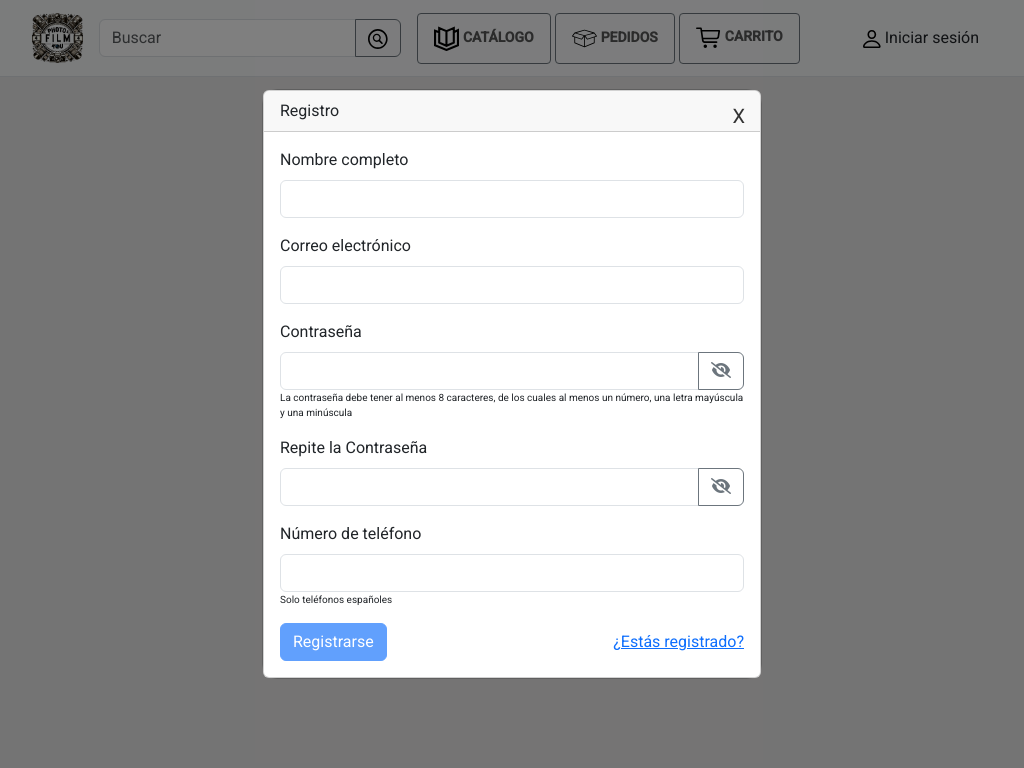
Register Network Requests › Fill form with invalid data › should display warning for pristine name
# pristine name
Step 1. Type "xxx" into the field with id "fullName" → (512, 199), box [280,180,744,218]
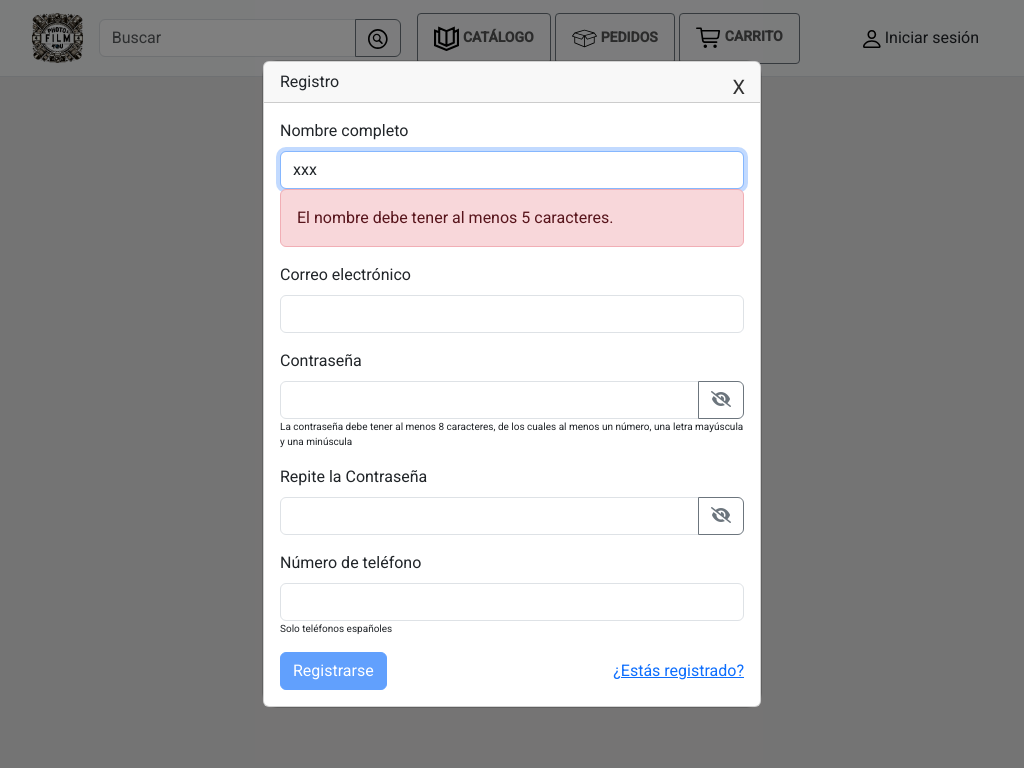
Step 2. Clear the field with id "fullName" → (512, 170), box [280,151,744,189]
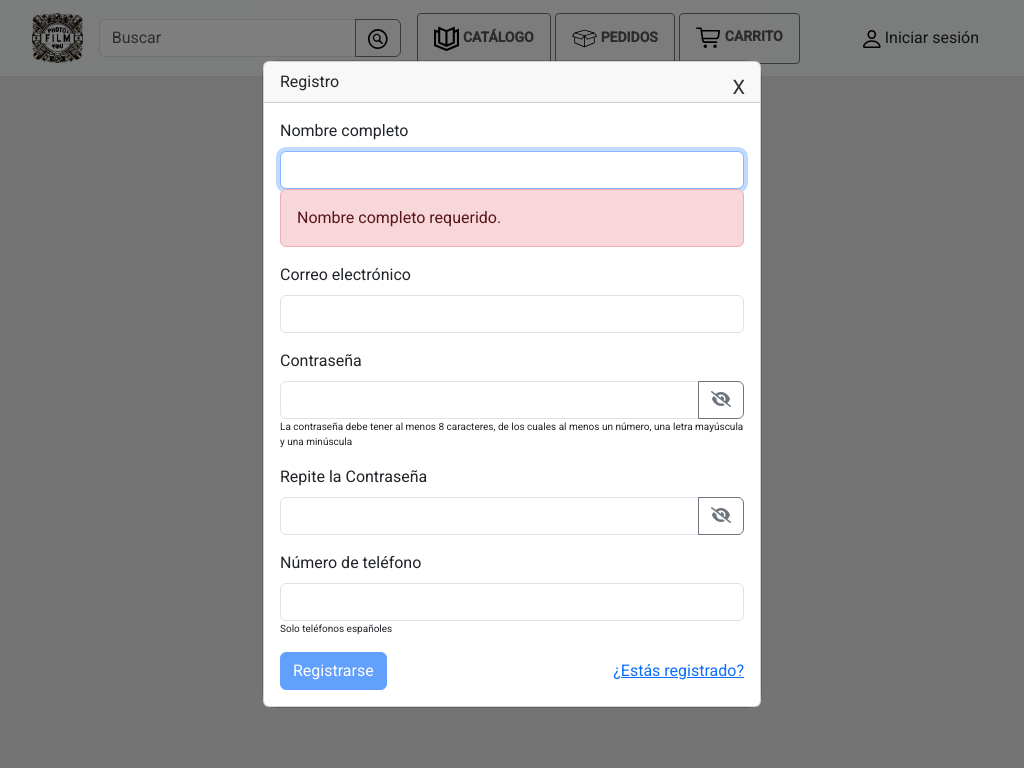
Check: the text "Nombre completo requerido." is shown, box [280,189,744,247]
